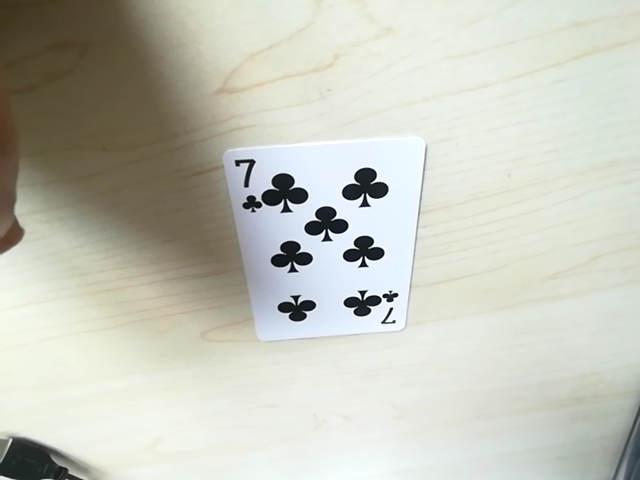mh 7: (235, 159, 262, 217), (377, 288, 404, 328)
